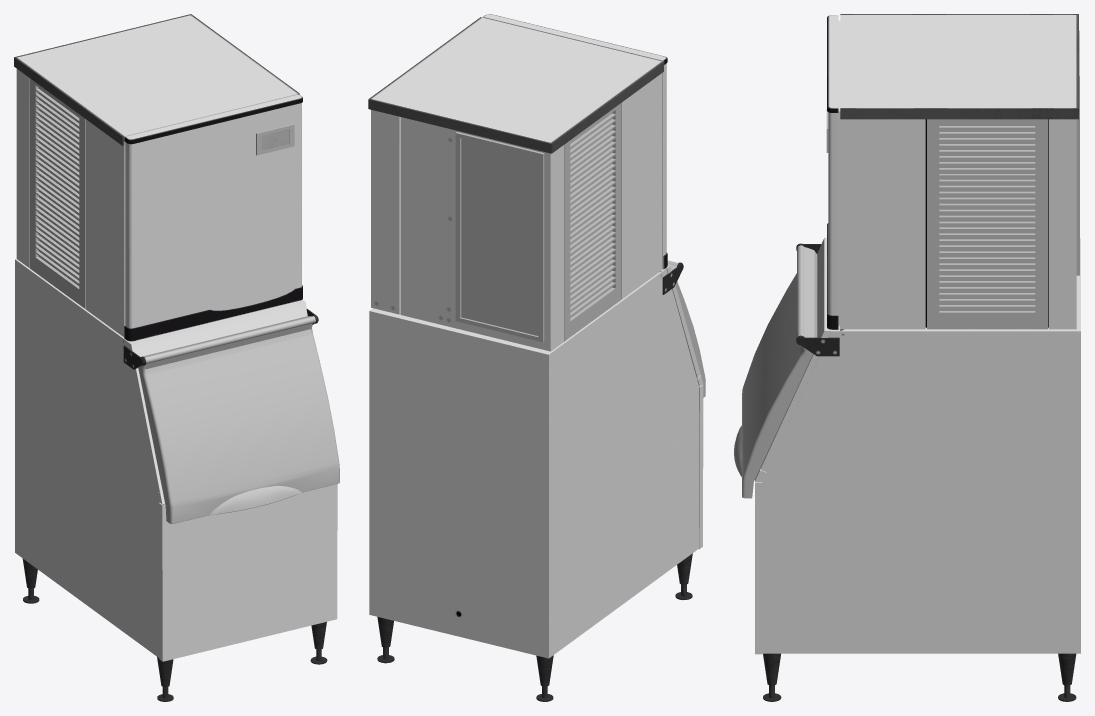
File: SM_摆件设备_004.fbx
The picture shows the model from 3 angles, left to right: view 1: azimuth 30°, elevation 25°; view 2: azimuth 150°, elevation 25°; view 3: azimuth 270°, elevation 25°; orthographic projection. The views are drawn at different scales.
Visible parts, largest first — view 1: SM_摆件设备_004; view 2: SM_摆件设备_004; view 3: SM_摆件设备_004.
Part boxes in pixels (box(x1,y1,x2,y2)): SM_摆件设备_004: box(14, 14, 339, 701); SM_摆件设备_004: box(368, 14, 705, 701); SM_摆件设备_004: box(734, 14, 1080, 701).
Size of the model in its own units: 580 by 894 by 1694.
